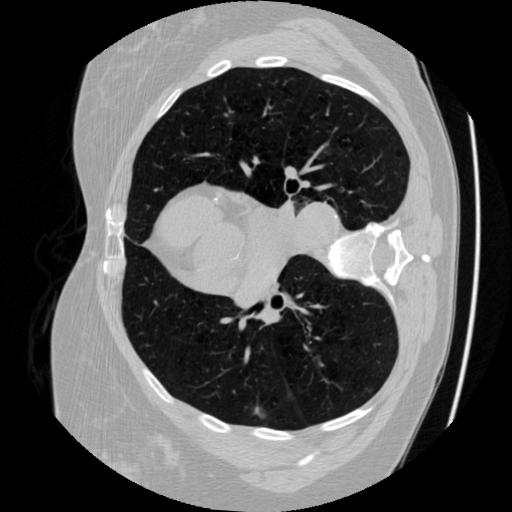nodule: (252, 406, 268, 422)
